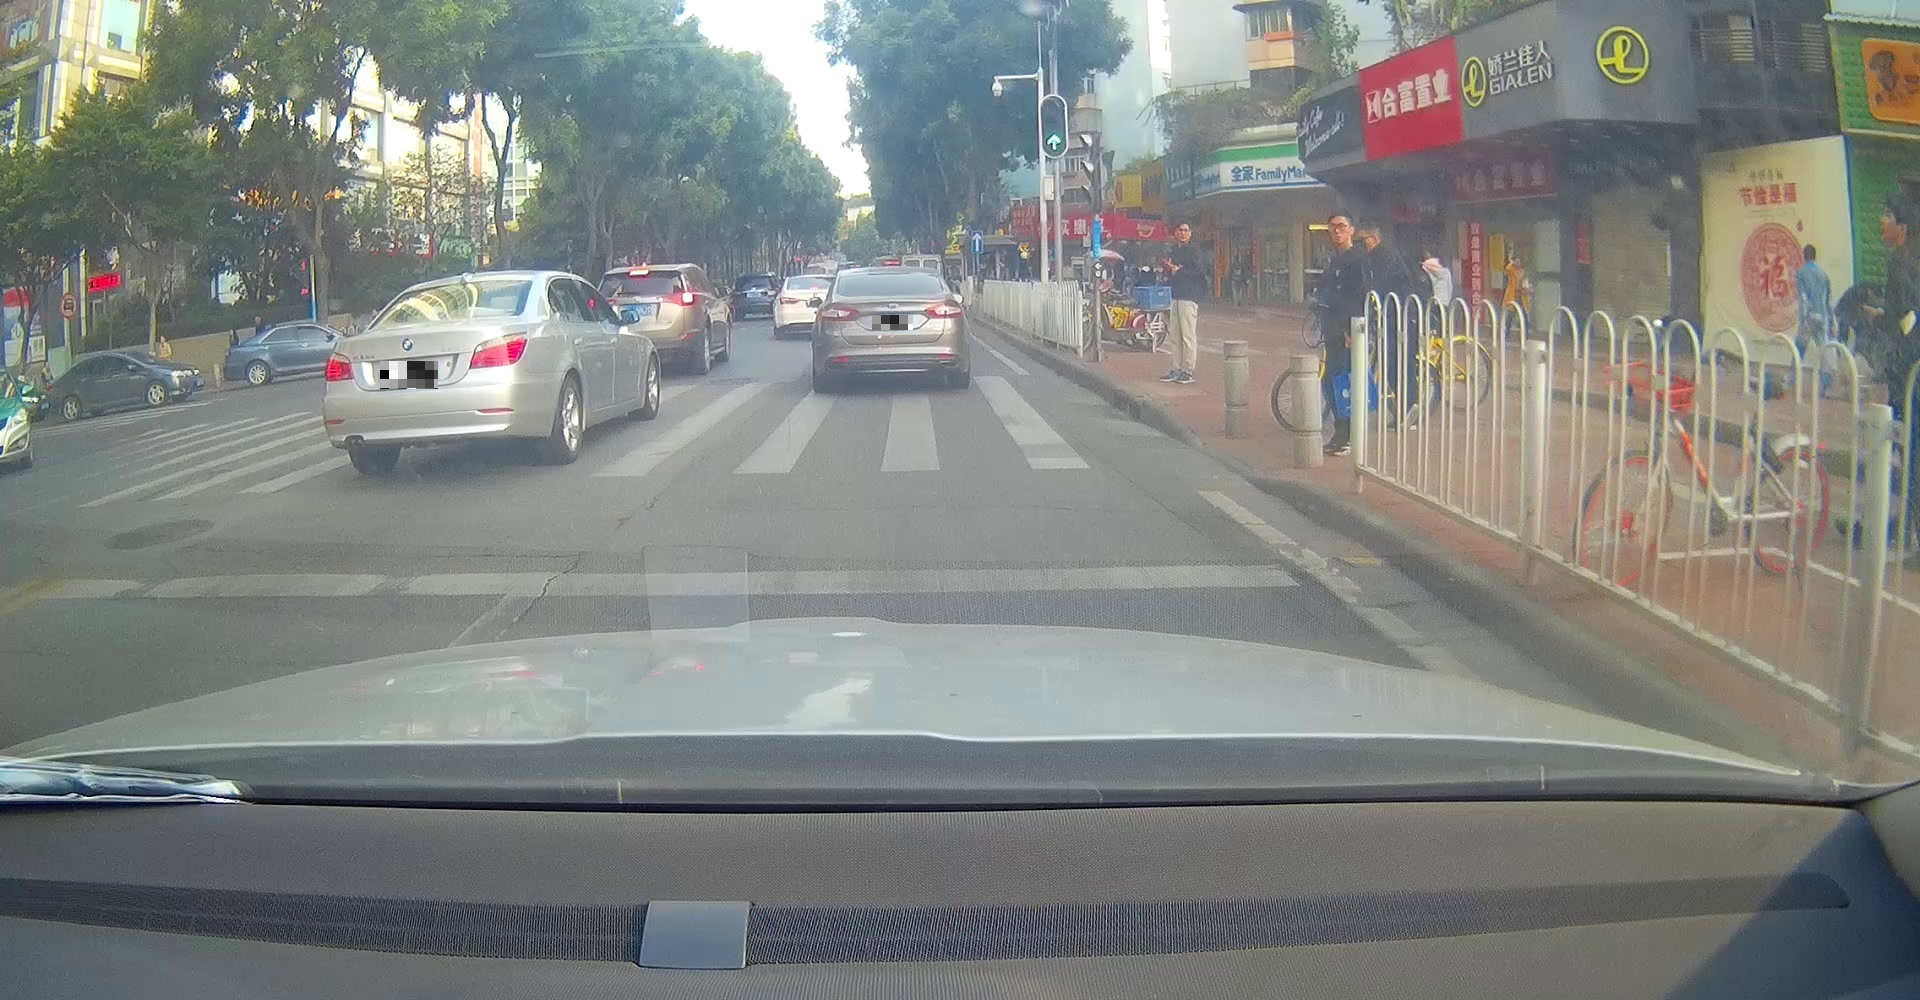L_light: (325, 352, 354, 381), (818, 303, 860, 321)
R_light: (469, 331, 528, 369), (924, 301, 963, 319)
T_light: (452, 277, 483, 286), (880, 268, 898, 275)
day-no: (323, 272, 538, 475), (818, 265, 964, 391)
plate_1: (380, 360, 438, 390)
plate_2: (872, 315, 913, 330)
